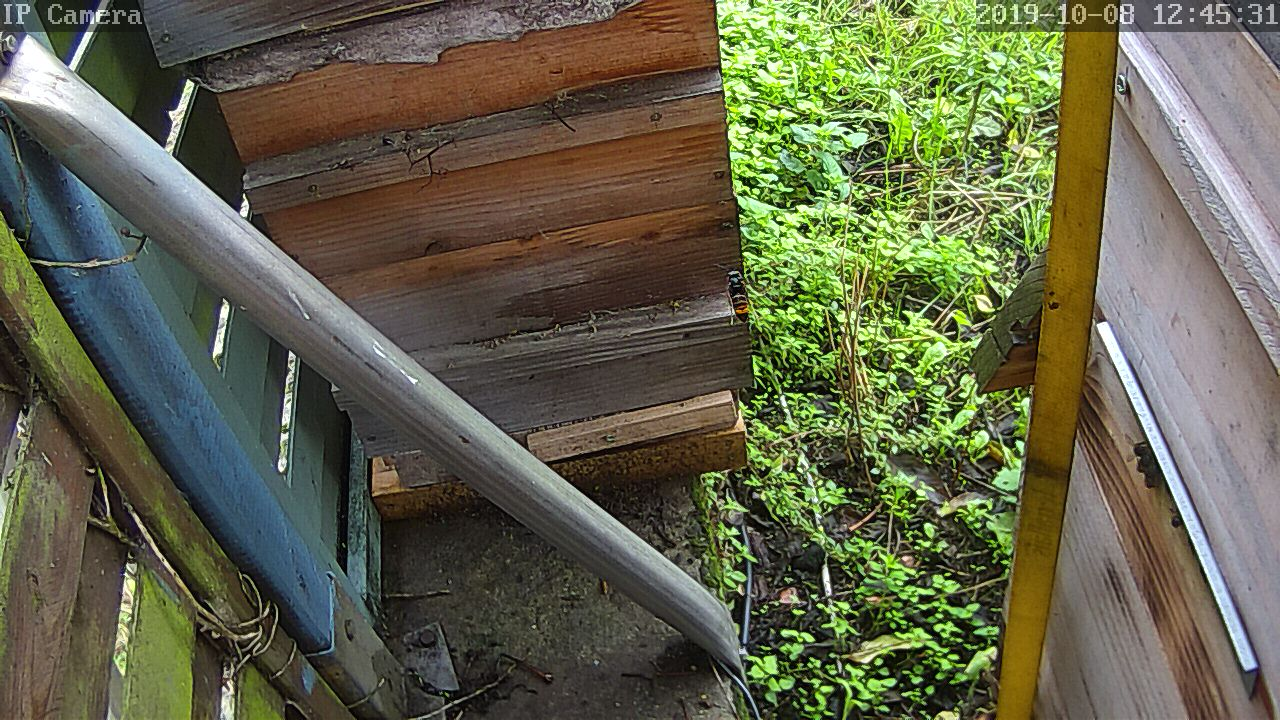bee: (1126, 444, 1159, 492), (1163, 509, 1186, 534)
hornet: (717, 265, 757, 324)
